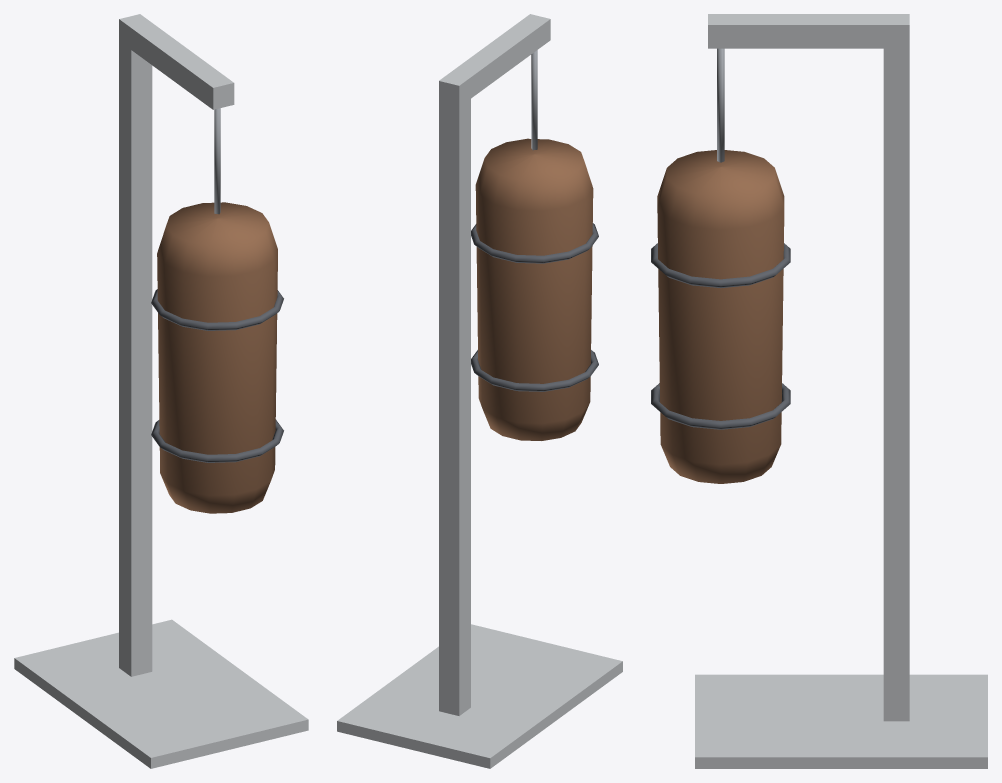
File: punching_bag.glb
3 renders of one model, left to right at view 1: azimuth 30°, elevation 25°; view 2: azimuth 150°, elevation 25°; view 3: azimuth 270°, elevation 25°, orthographic. The views are drawn at different scales.
Visible parts, largest first — view 1: punching_bag; view 2: punching_bag; view 3: punching_bag.
Boxes of the visible parts, x1=… form: punching_bag: x1=14, y1=14, x2=308, y2=768; punching_bag: x1=337, y1=14, x2=622, y2=768; punching_bag: x1=651, y1=14, x2=987, y2=768.
Bounding box in the file's own units: 0.6 × 2.4 × 1.03.
